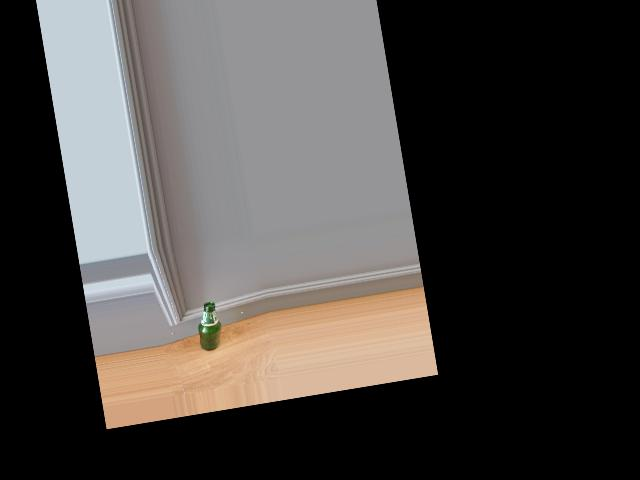beer: (193, 300, 224, 352)
